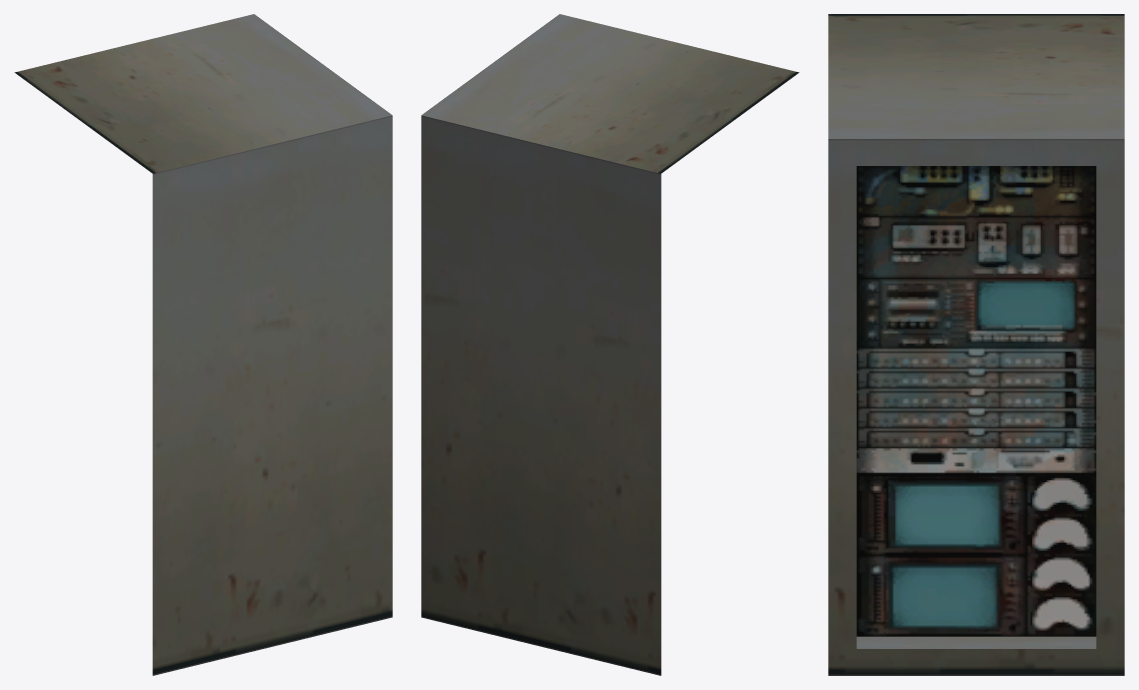
The model's file is M11_LABKIT01.glb.
3 renders of one model, left to right at view 1: azimuth 30°, elevation 25°; view 2: azimuth 150°, elevation 25°; view 3: azimuth 270°, elevation 25°, orthographic. The views are drawn at different scales.
Visible parts, largest first — view 1: M11_LABKIT01; view 2: M11_LABKIT01; view 3: M11_LABKIT01.
Boxes of the visible parts, x1,y1,x2,y2 form: M11_LABKIT01: (14,14,392,675); M11_LABKIT01: (421,14,799,675); M11_LABKIT01: (828,14,1124,675).
Size of the model in its own units: 1 by 2 by 1.
2 materials, 2 textured.
